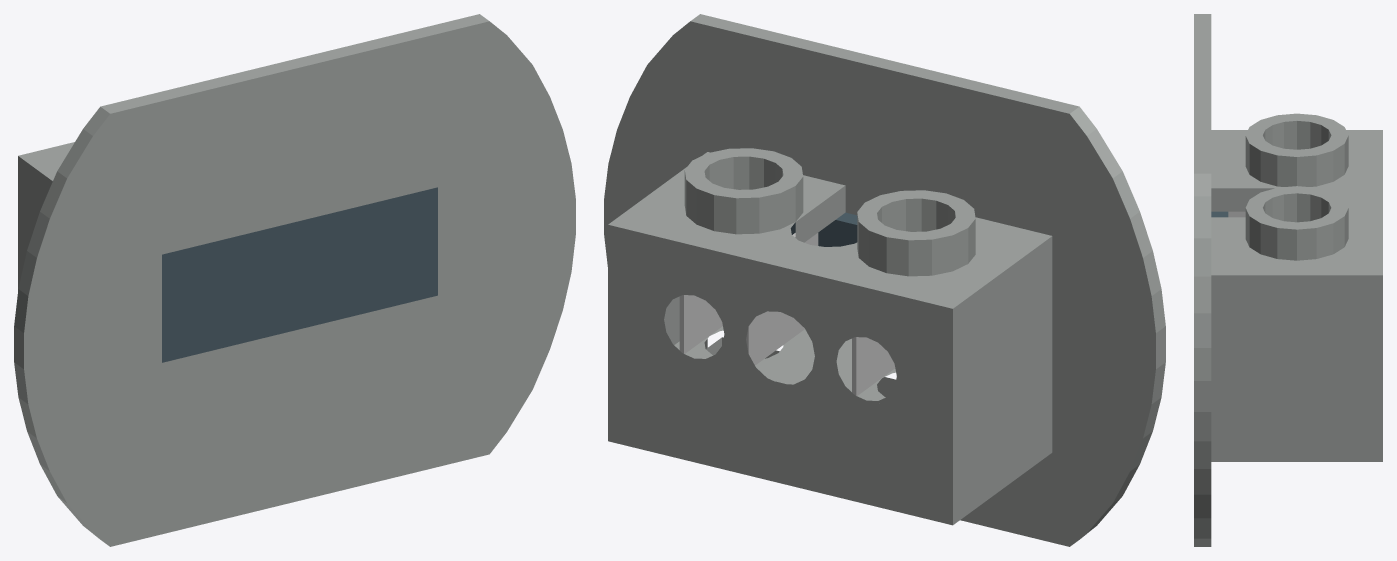
The picture shows the model from 3 angles, left to right: view 1: azimuth 30°, elevation 25°; view 2: azimuth 150°, elevation 25°; view 3: azimuth 270°, elevation 25°; orthographic projection. The views are drawn at different scales.
Parts seen in each view (by area): view 1: world; view 2: world; view 3: world.
Boxes of the visible parts, left/top/right/bottom form: world: left=14, top=14, right=575, bottom=546; world: left=604, top=14, right=1165, bottom=546; world: left=1194, top=14, right=1382, bottom=546.
Size of the model in its own units: 0.0256 by 0.0192 by 0.0088.
